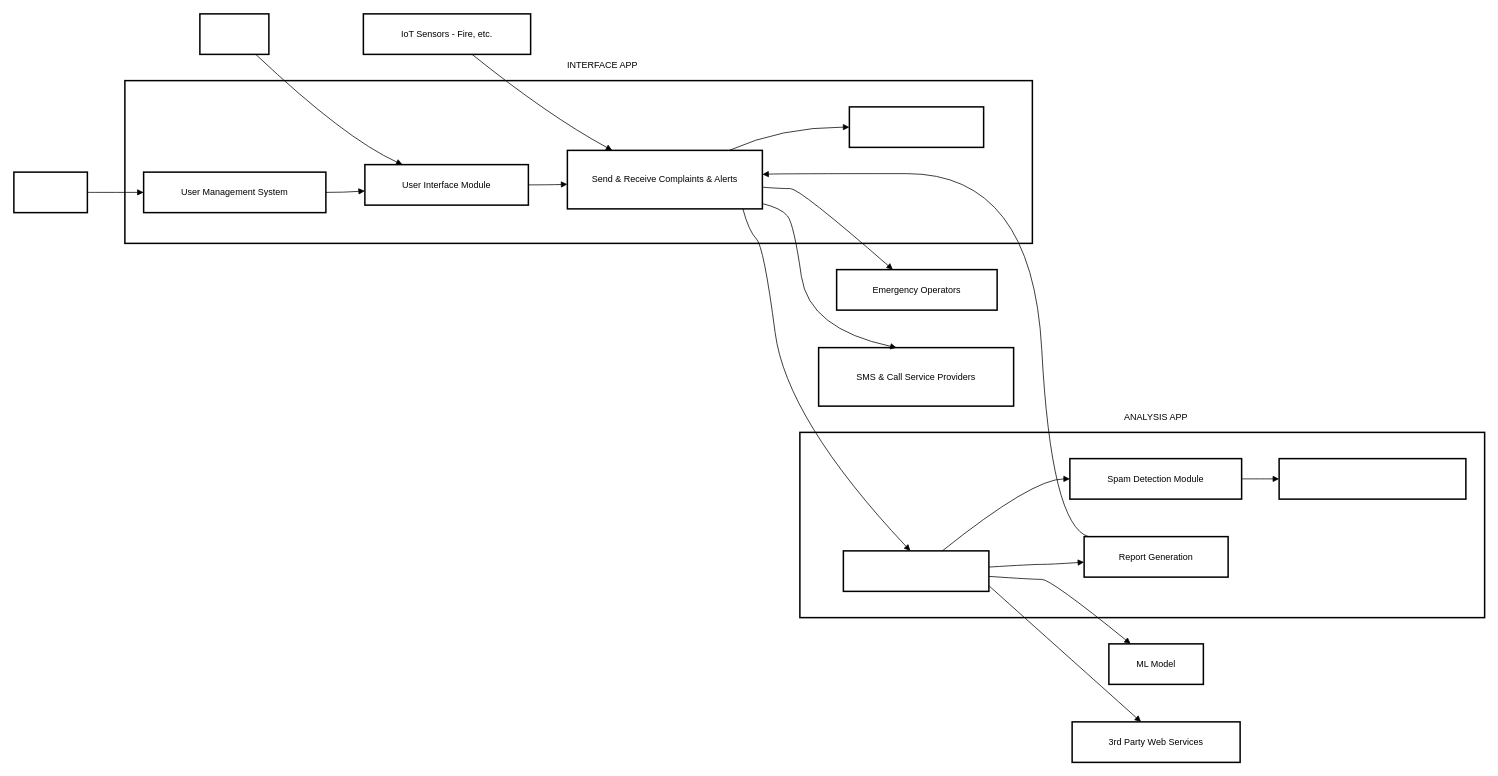
Image size: 1498x776. Some labels were removed from this diagram. Here are the shapes that lost their labels. From the top down, the centre of each, then its label:
pixel 234 34: User
pixel 916 127: Display Analytics
pixel 50 192: DBMS
pixel 1372 479: Type Classification Module
pixel 915 571: Analysis Controller
